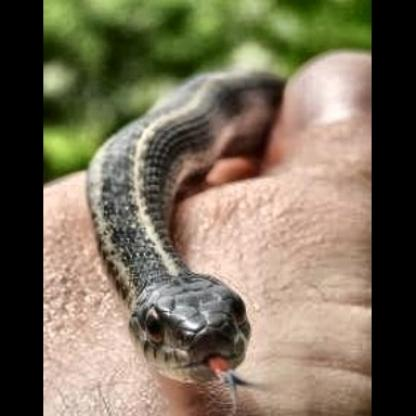Snake: (81, 68, 291, 392)
